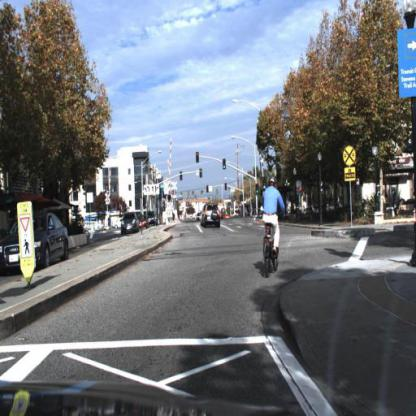biker: (260, 174, 283, 284)
car: (1, 212, 70, 272), (201, 201, 222, 229), (120, 211, 141, 237), (120, 214, 139, 237)
trafficLight-Green: (221, 154, 228, 170), (262, 178, 268, 192), (224, 158, 228, 172), (256, 183, 260, 196)
trafficLight-Red: (194, 155, 200, 172)
trafficLight-RedLeft: (195, 151, 200, 164)
